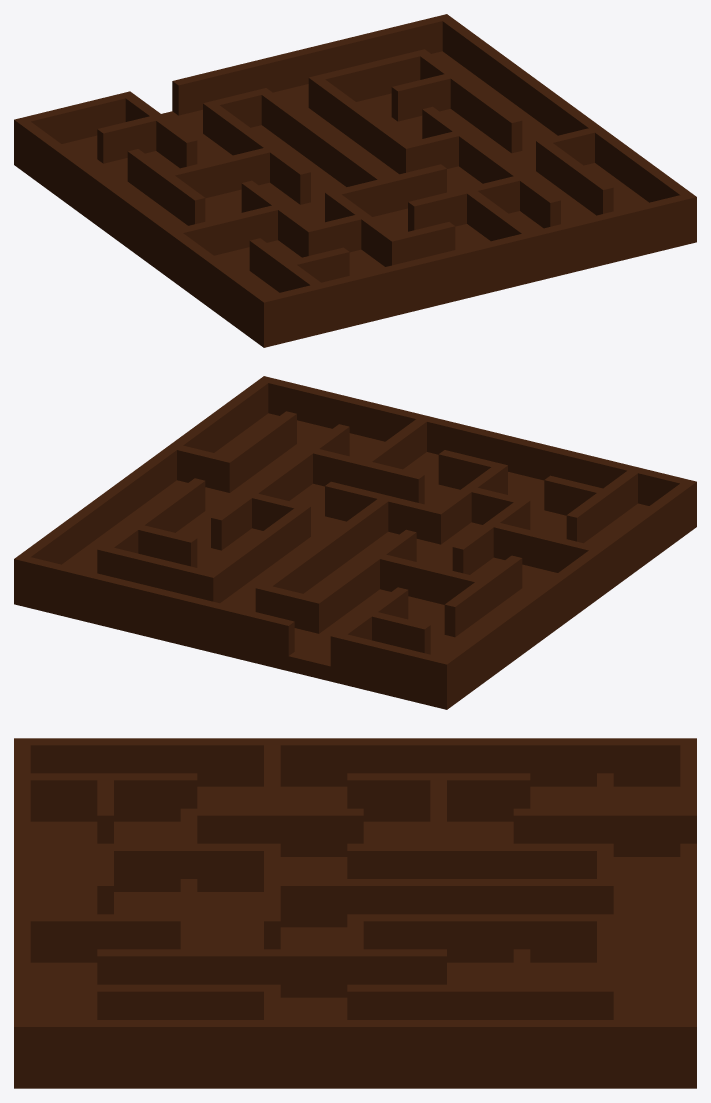
Rendered from Labyrinth1.obj.
3 views of the same model, one above another, from view 1: azimuth 30°, elevation 25°; view 2: azimuth 150°, elevation 25°; view 3: azimuth 270°, elevation 25° (orthographic). The views are drawn at different scales.
Visible parts, largest first — view 1: Labyrinth; view 2: Labyrinth; view 3: Labyrinth.
Boxes of the visible parts, bbox=[...] form: Labyrinth: bbox=[14, 14, 696, 347]; Labyrinth: bbox=[14, 376, 696, 709]; Labyrinth: bbox=[14, 738, 696, 1088].
Size of the model in its own units: 30 by 3 by 30.
